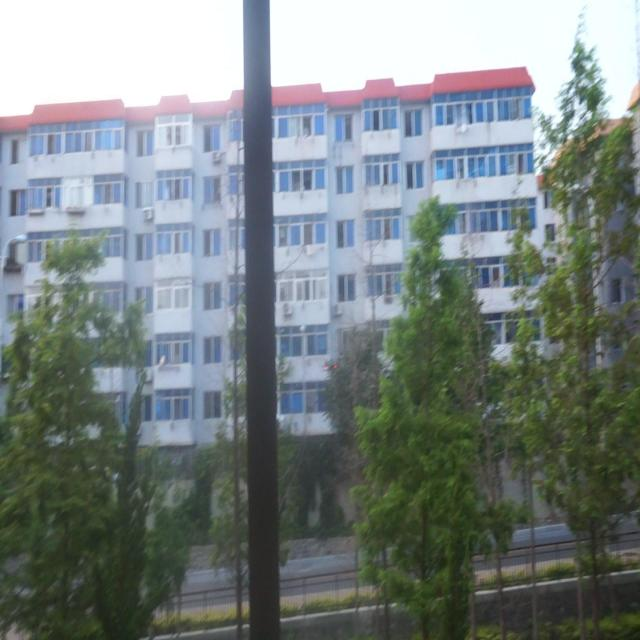UAV: (325, 363, 337, 369)
